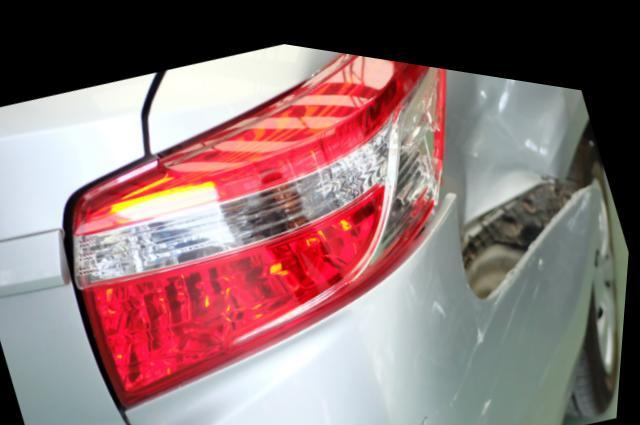dent: (444, 55, 570, 207)
lamp broken: (73, 42, 450, 404)
scratch: (415, 179, 593, 425)
